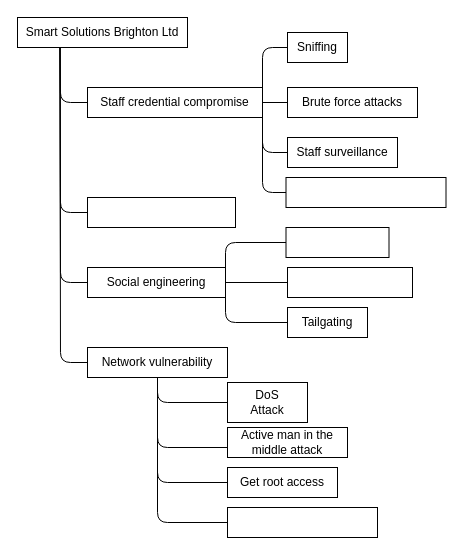
Image size: 464x555. Some labels were removed from this diagram. The box of each missing label's shape, as (x1, y1, x2, y2) in pixels:
E-mails with malicious code: (285, 176, 446, 208)
Exploit port vulnerability: (226, 506, 378, 538)
Faking authorization: (286, 266, 412, 298)
Phishing email: (285, 226, 389, 258)
Security policy violation: (86, 196, 236, 228)
